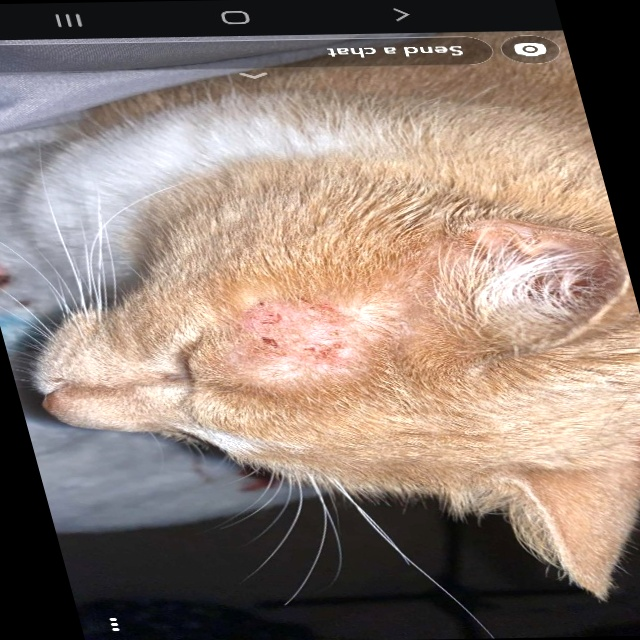ringworm: (237, 299, 411, 370)
